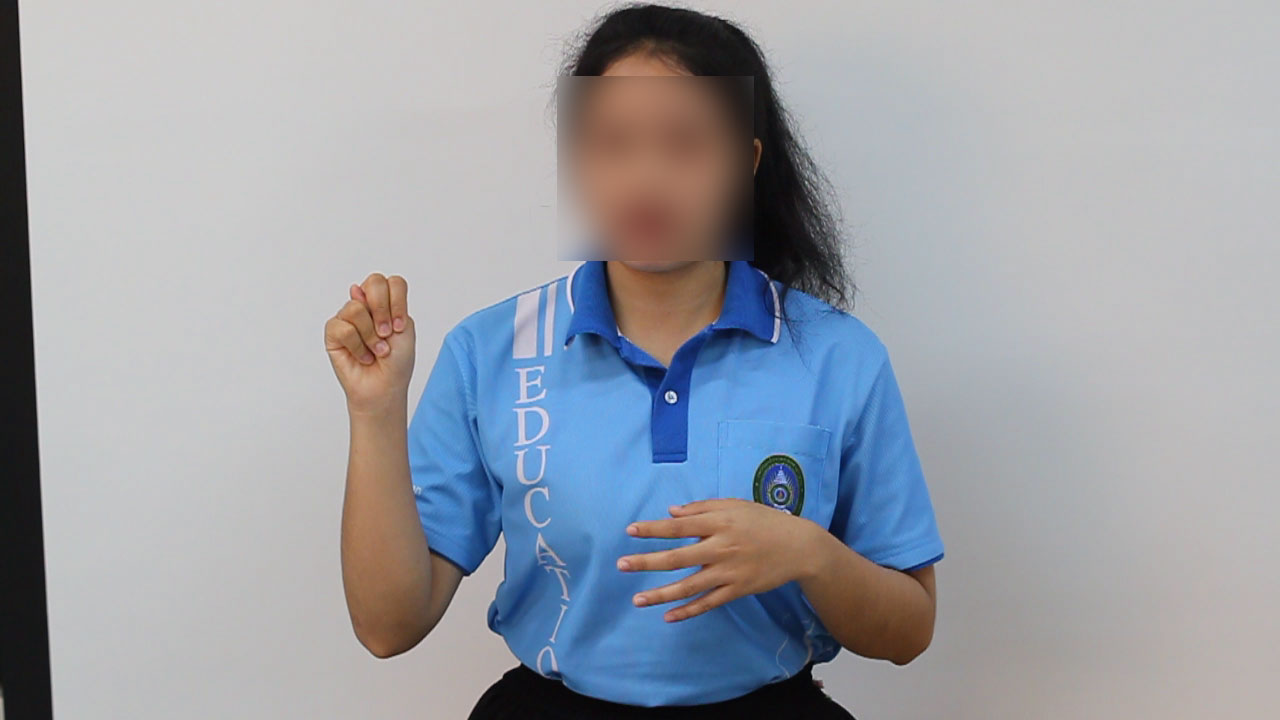nor: (319, 261, 425, 410)
